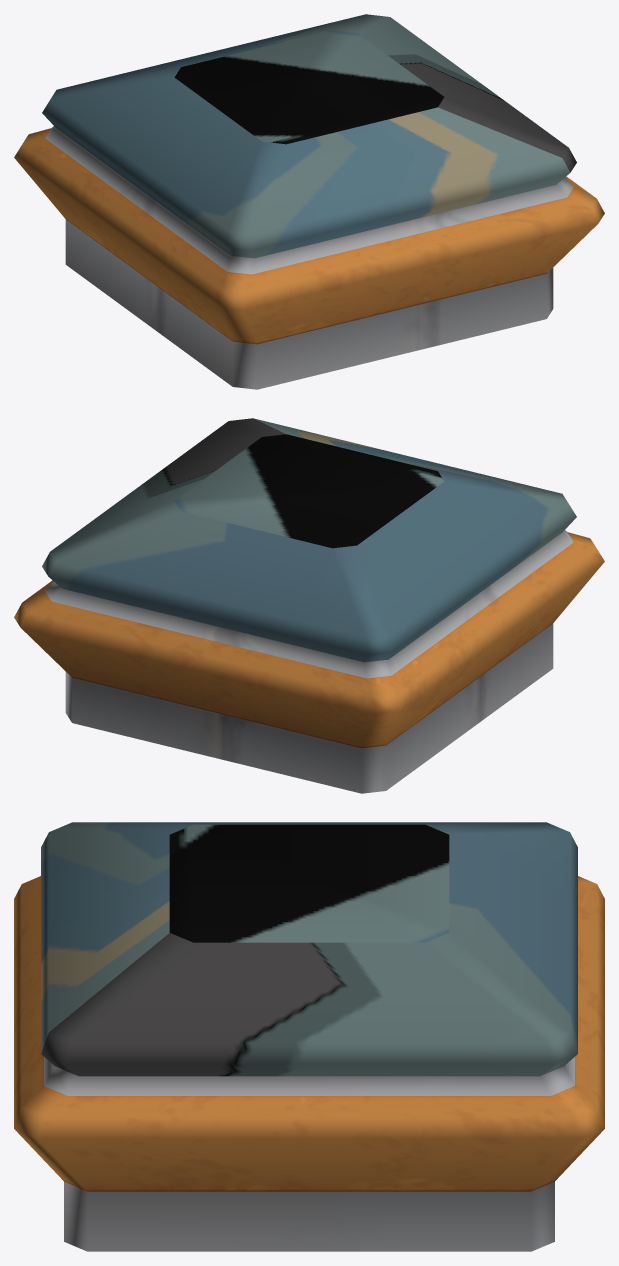
The model's file is SM_Column_Top.fbx.
The picture shows the model from 3 angles, top to bottom: view 1: azimuth 30°, elevation 25°; view 2: azimuth 150°, elevation 25°; view 3: azimuth 270°, elevation 25°; orthographic projection. The views are drawn at different scales.
Visible parts, largest first — view 1: SM_Column_Top; view 2: SM_Column_Top; view 3: SM_Column_Top.
Boxes of the visible parts, <box> form: SM_Column_Top: <box>14,14,604,389</box>; SM_Column_Top: <box>14,418,604,793</box>; SM_Column_Top: <box>14,822,604,1251</box>.
Bounding box in the file's own units: 0.3259 × 0.1608 × 0.3259.
